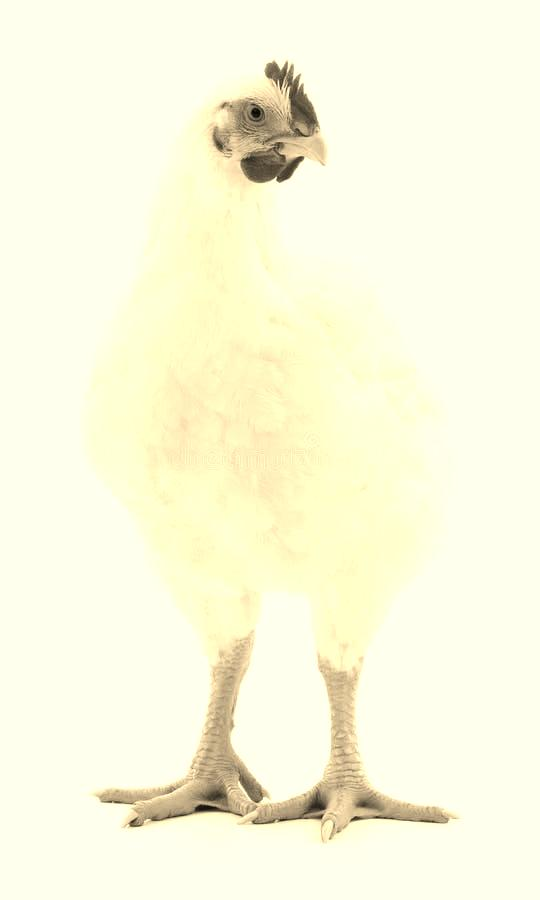Healthy: (66, 50, 473, 828)
